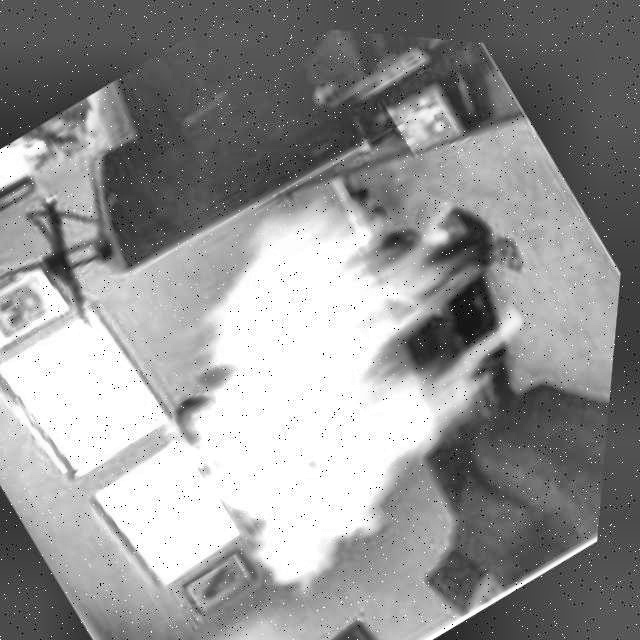Smoke: (60, 94, 618, 640)
